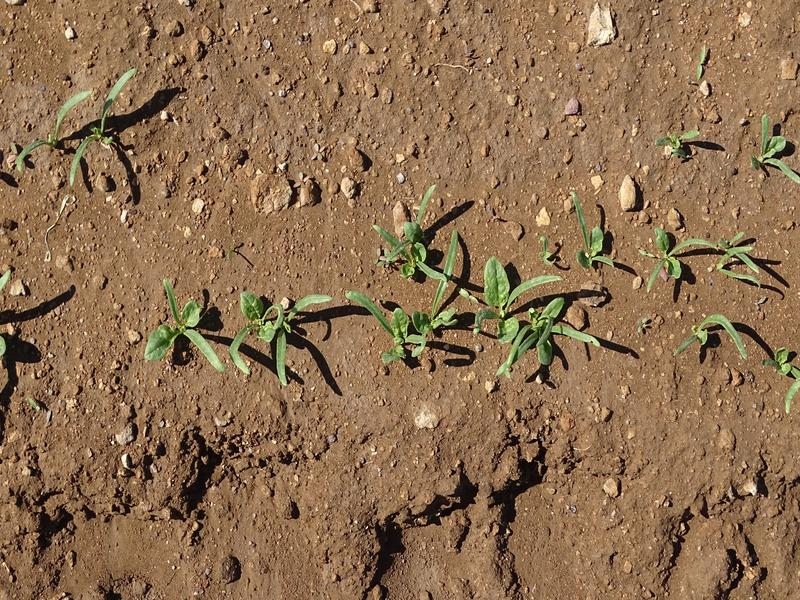Espinaca: (367, 201, 617, 380), (166, 257, 334, 388), (647, 214, 769, 366), (10, 63, 143, 180), (744, 118, 800, 179), (652, 121, 700, 161), (771, 351, 800, 409)
